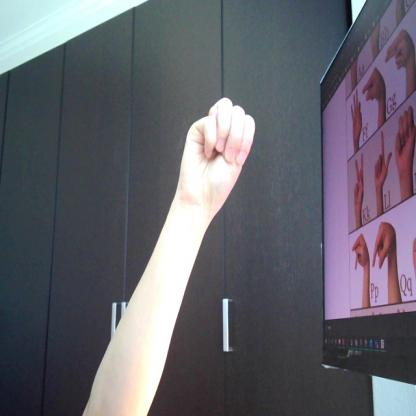M: (179, 95, 256, 209)
